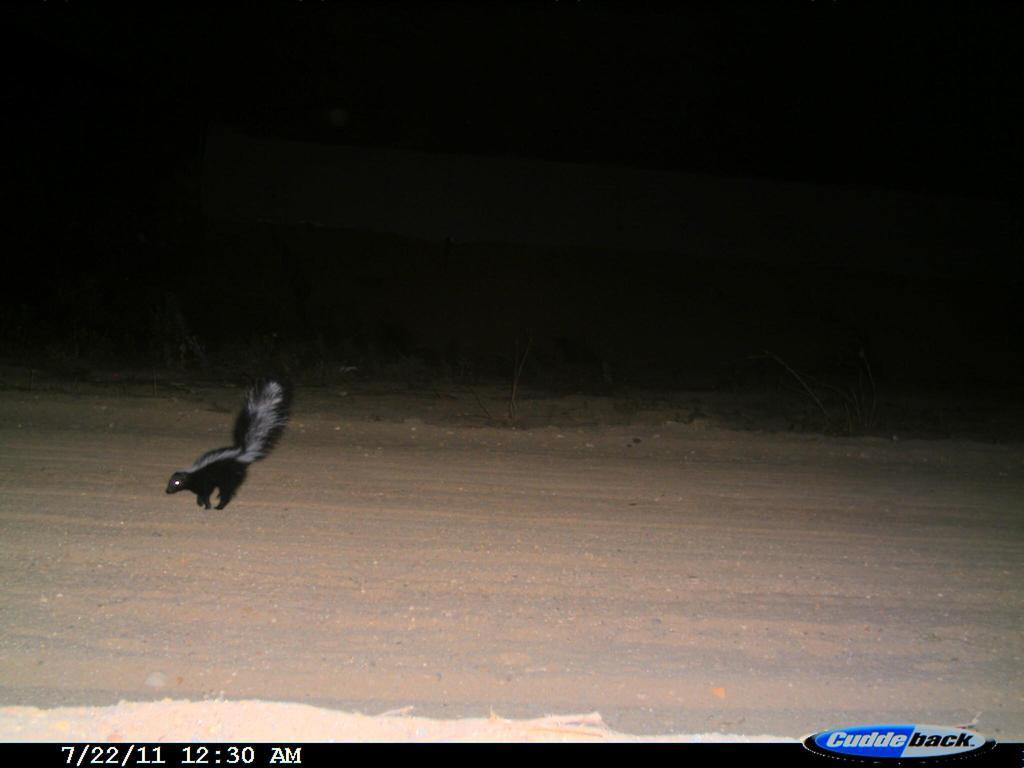skunk: (150, 368, 299, 536)
